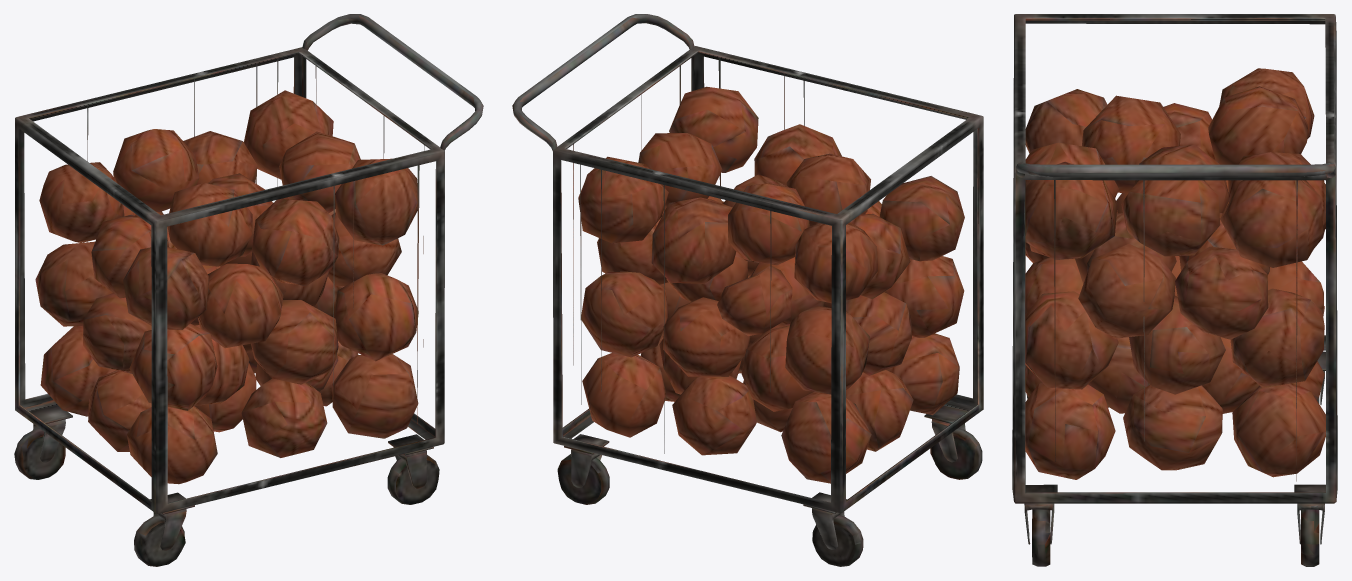
Rendered from prop_ball_cart.glb.
3 views of the same model, side by side, from view 1: azimuth 30°, elevation 25°; view 2: azimuth 150°, elevation 25°; view 3: azimuth 270°, elevation 25° (orthographic). The views are drawn at different scales.
Bounding box in the file's own units: 0.9028 × 0.9482 × 0.6426.
Materials: 1 (1 with a texture image).
